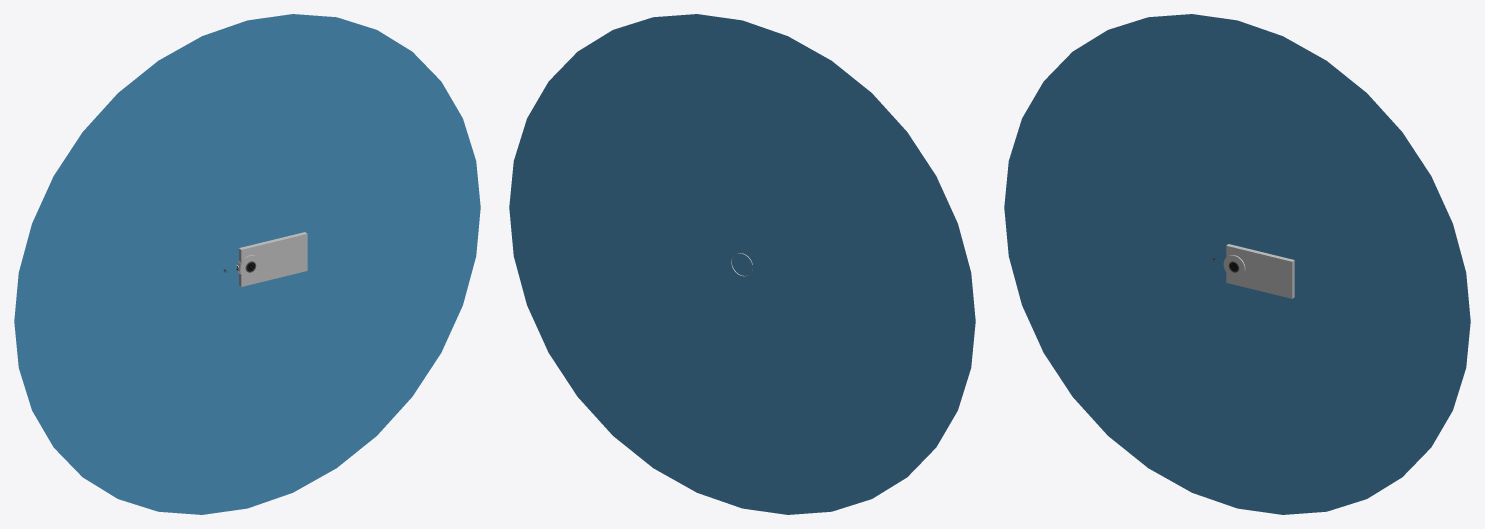
The model's file is lobby.obj.
The picture shows the model from 3 angles, left to right: view 1: azimuth 30°, elevation 25°; view 2: azimuth 150°, elevation 25°; view 3: azimuth 330°, elevation 25°; orthographic projection.
Visible parts, largest first — view 1: Circle, Cube.001; view 2: Circle; view 3: Circle, Cube.001.
Part boxes in pixels (bbox=[...]): Circle: bbox=[14, 14, 480, 514]; Cube.001: bbox=[237, 232, 307, 286]; Circle: bbox=[509, 14, 975, 514]; Circle: bbox=[1004, 14, 1470, 514]; Cube.001: bbox=[1223, 244, 1294, 298].
Size of the model in its own units: 1561 by 1561 by 27.4.
